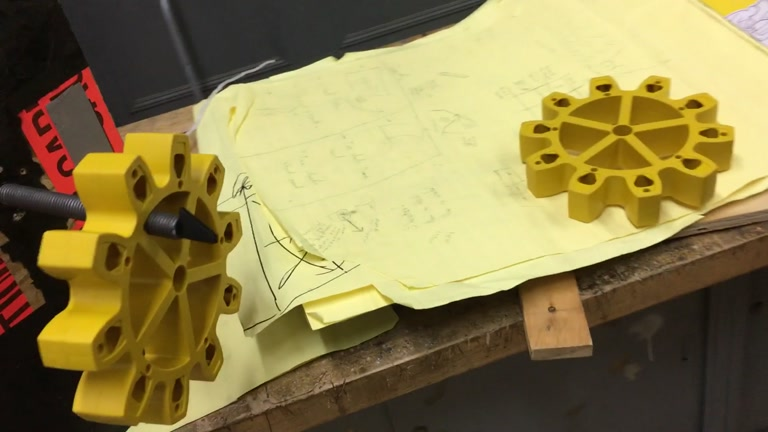gear: (37, 131, 244, 427), (518, 75, 736, 228)
